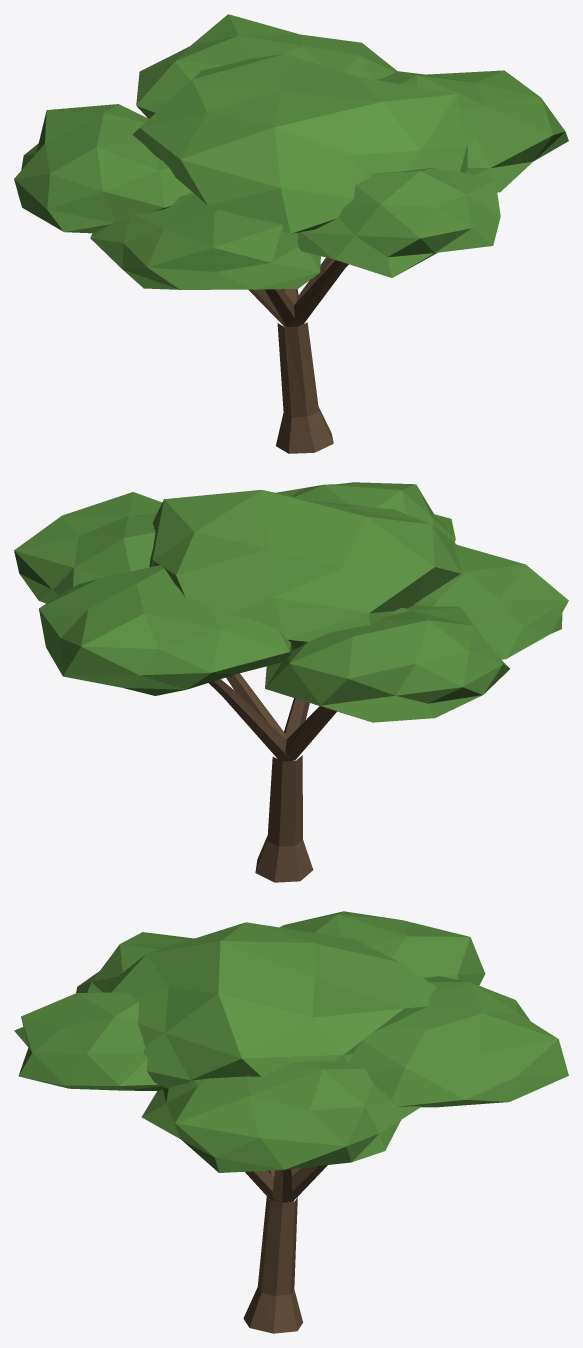
File: umbrella_b.glb
3 views of the same model, one above another, from view 1: azimuth 30°, elevation 25°; view 2: azimuth 150°, elevation 25°; view 3: azimuth 270°, elevation 25° (orthographic). The views are drawn at different scales.
Parts seen in each view (by area): view 1: umbrella; view 2: umbrella; view 3: umbrella.
Boxes of the visible parts, <box> form: umbrella: <box>14,14,568,453</box>; umbrella: <box>14,482,568,882</box>; umbrella: <box>14,911,568,1333</box>.
Size of the model in its own units: 15.82 by 10.87 by 15.32.
